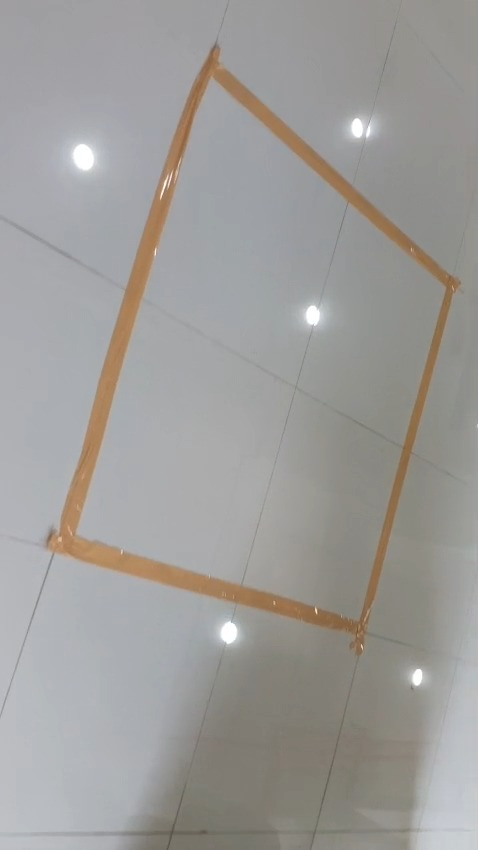floor marking: (48, 45, 459, 654)
